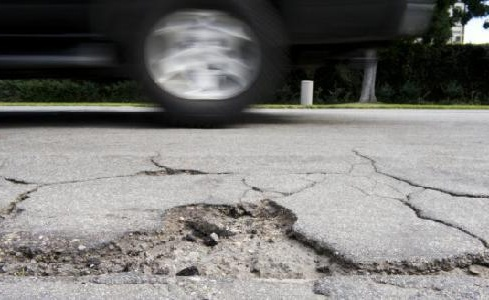pothole: (77, 193, 363, 284)
